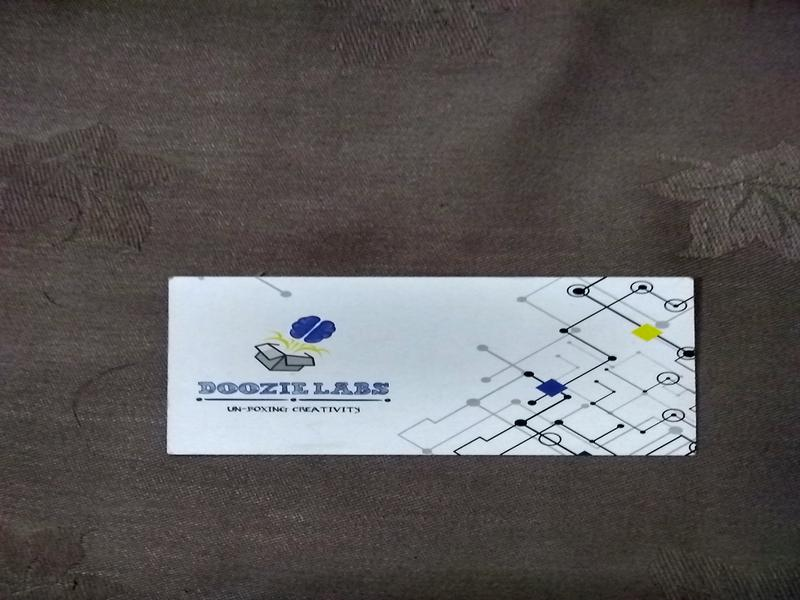back: (164, 276, 700, 459)
